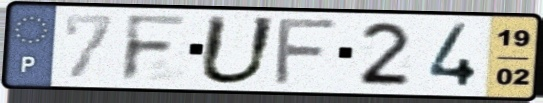2: (357, 20, 417, 89)
4: (425, 21, 481, 91)
7: (61, 12, 115, 82)
F: (118, 12, 192, 84), (270, 17, 343, 87)
U: (194, 13, 281, 88)
